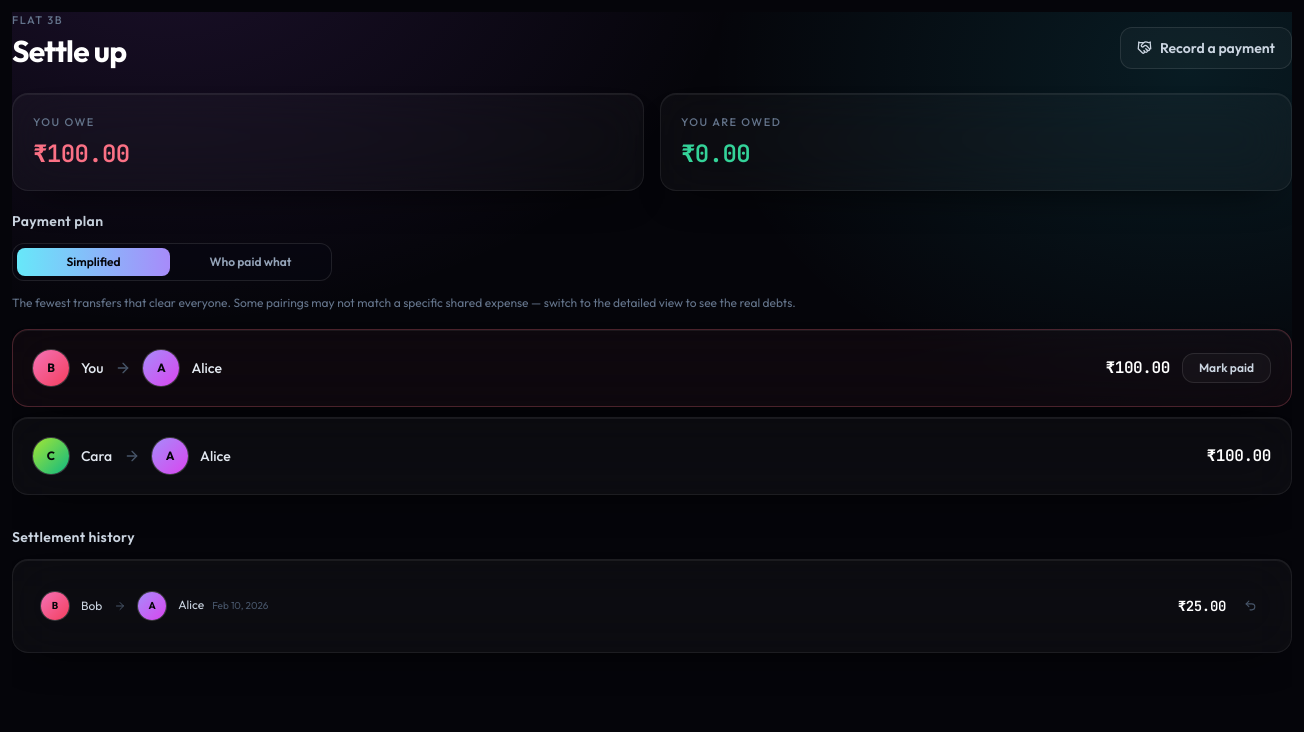
it: SettleUpPage › offers the simplified plan and the unsimplified ledger side by side
Expected: the text "fewest transfers" is shown, [12,295,796,310]
Expected: the text "₹100.00" below "You owe" is shown, [33,138,130,169]
What coordinates should you click on to do the following:
click the button "Who paid what"
I would click on:
 (250, 262)
Its box is [174,248,327,276].
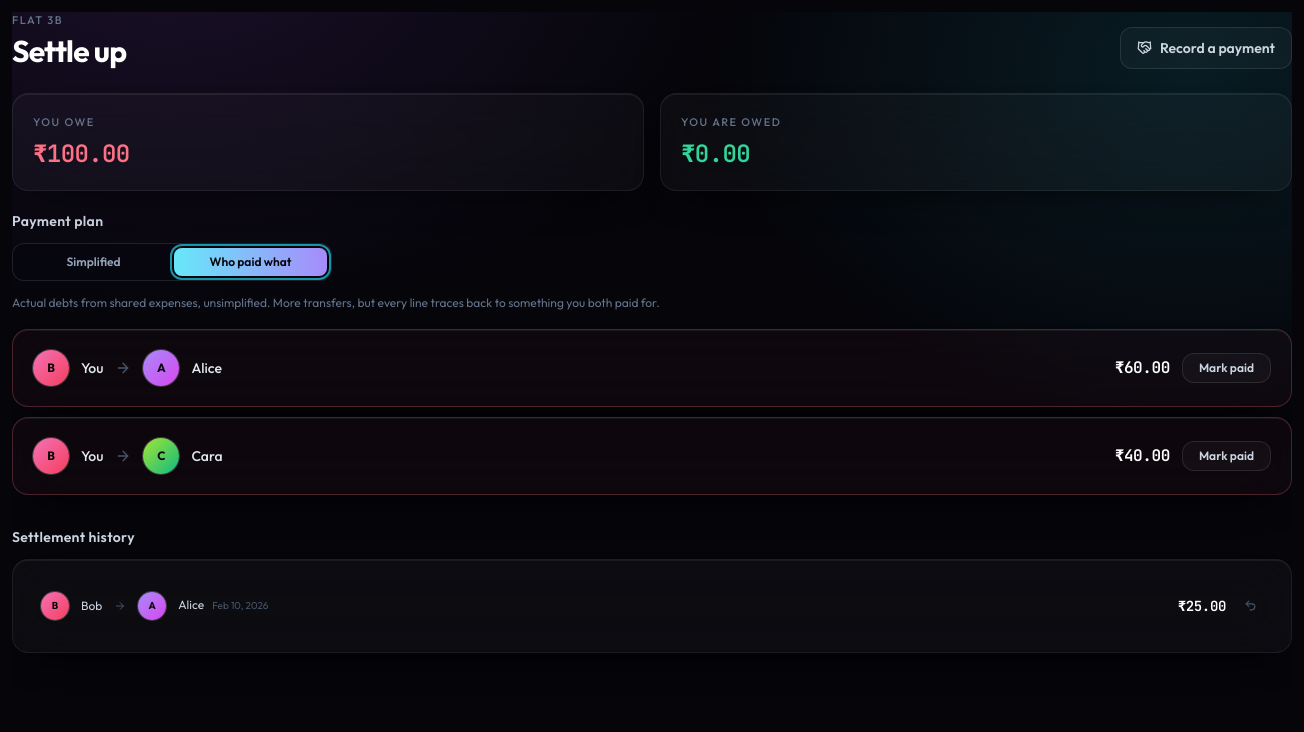
Now the text "unsimplified" is shown, box [12,295,660,310]
Now the text "₹60.00" is shown, box [1115,356,1170,380]
Now the text "₹40.00" is shown, box [1115,444,1170,468]
